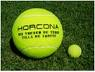tennis ball: (11, 8, 64, 59), (67, 44, 82, 58)
